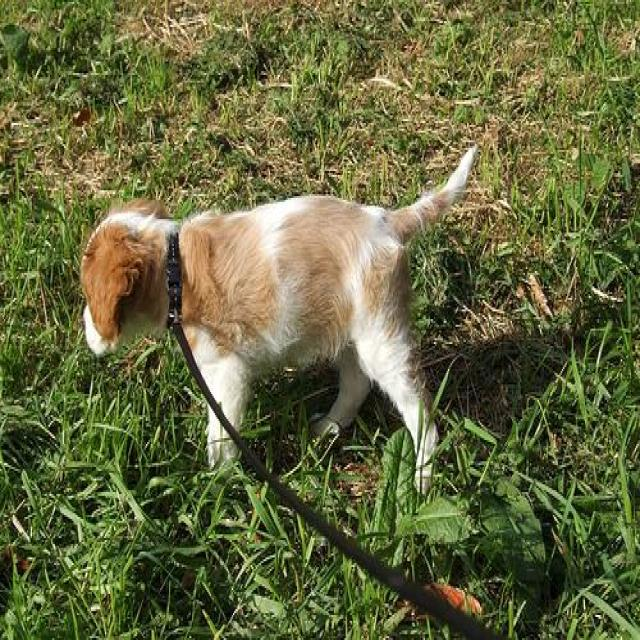blenheim_spaniel: (76, 140, 482, 500)
